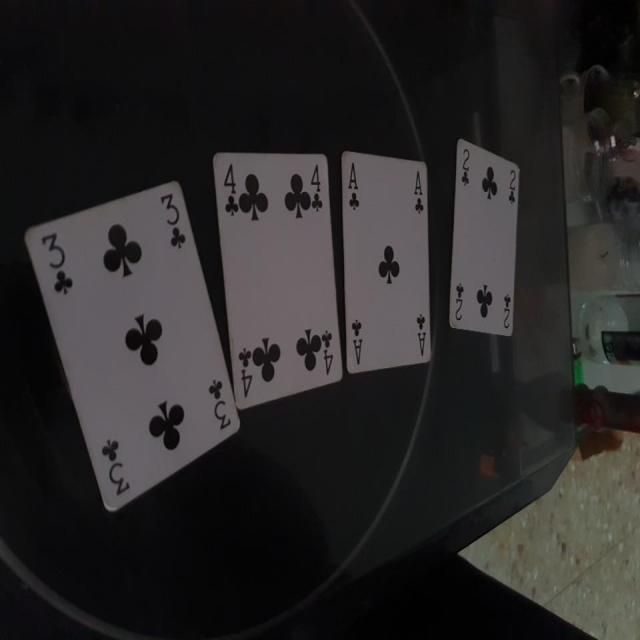2 Trefoils: (448, 137, 520, 340)
3 Trefoils: (23, 177, 242, 512)
4 Trefoils: (212, 146, 345, 412)
A Trefoils: (339, 148, 434, 376)
